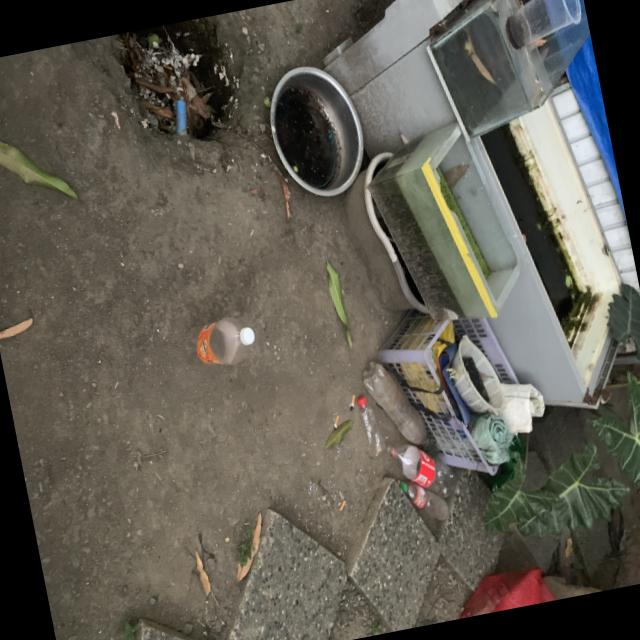Bottle: (183, 317, 255, 364)
